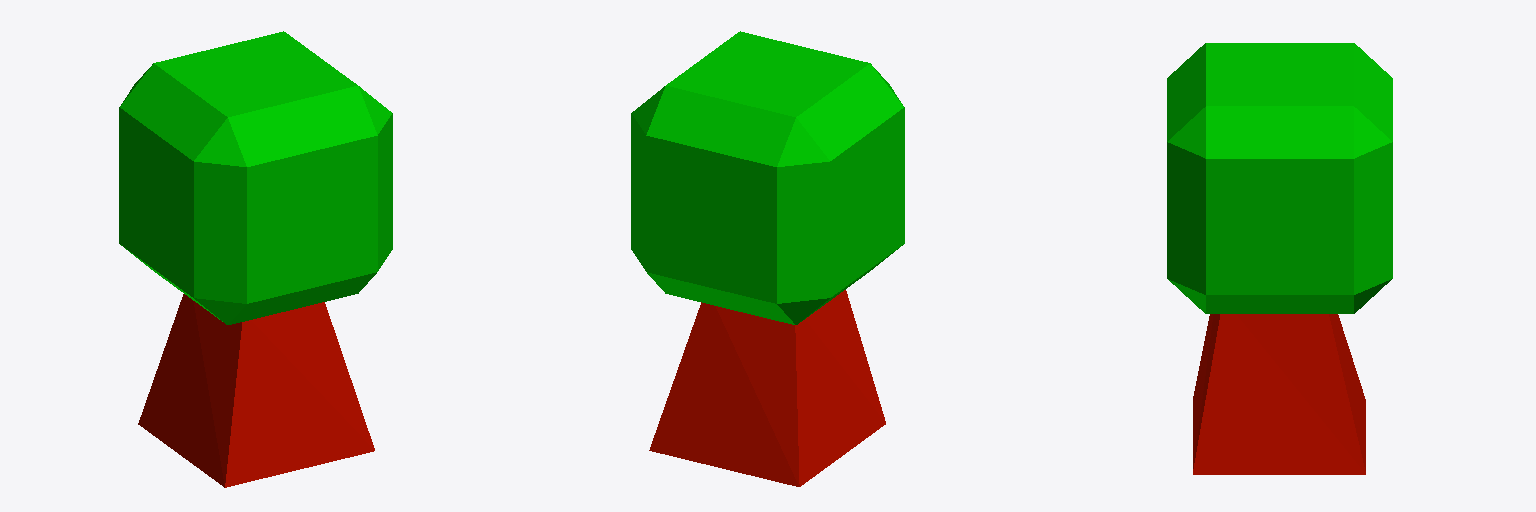
File: Arbol.obj
3 views of the same model, side by side, from view 1: azimuth 30°, elevation 25°; view 2: azimuth 150°, elevation 25°; view 3: azimuth 270°, elevation 25° (orthographic).
Visible parts, largest first — view 1: Cube.001, Cube; view 2: Cube.001, Cube; view 3: Cube.001, Cube.
Boxes of the visible parts, x1=… form: Cube.001: x1=119, y1=31, x2=392, y2=324; Cube: x1=138, y1=294, x2=374, y2=487; Cube.001: x1=631, y1=31, x2=904, y2=324; Cube: x1=649, y1=290, x2=885, y2=486; Cube.001: x1=1167, y1=43, x2=1392, y2=313; Cube: x1=1193, y1=314, x2=1365, y2=474.
Size of the model in its own units: 2.64 by 4.61 by 2.6.